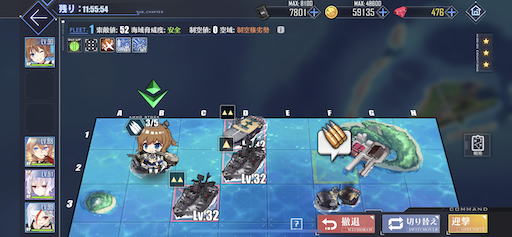lv1: (218, 136, 267, 182)
lv2: (218, 136, 267, 182), (167, 172, 213, 220), (223, 104, 267, 137)
